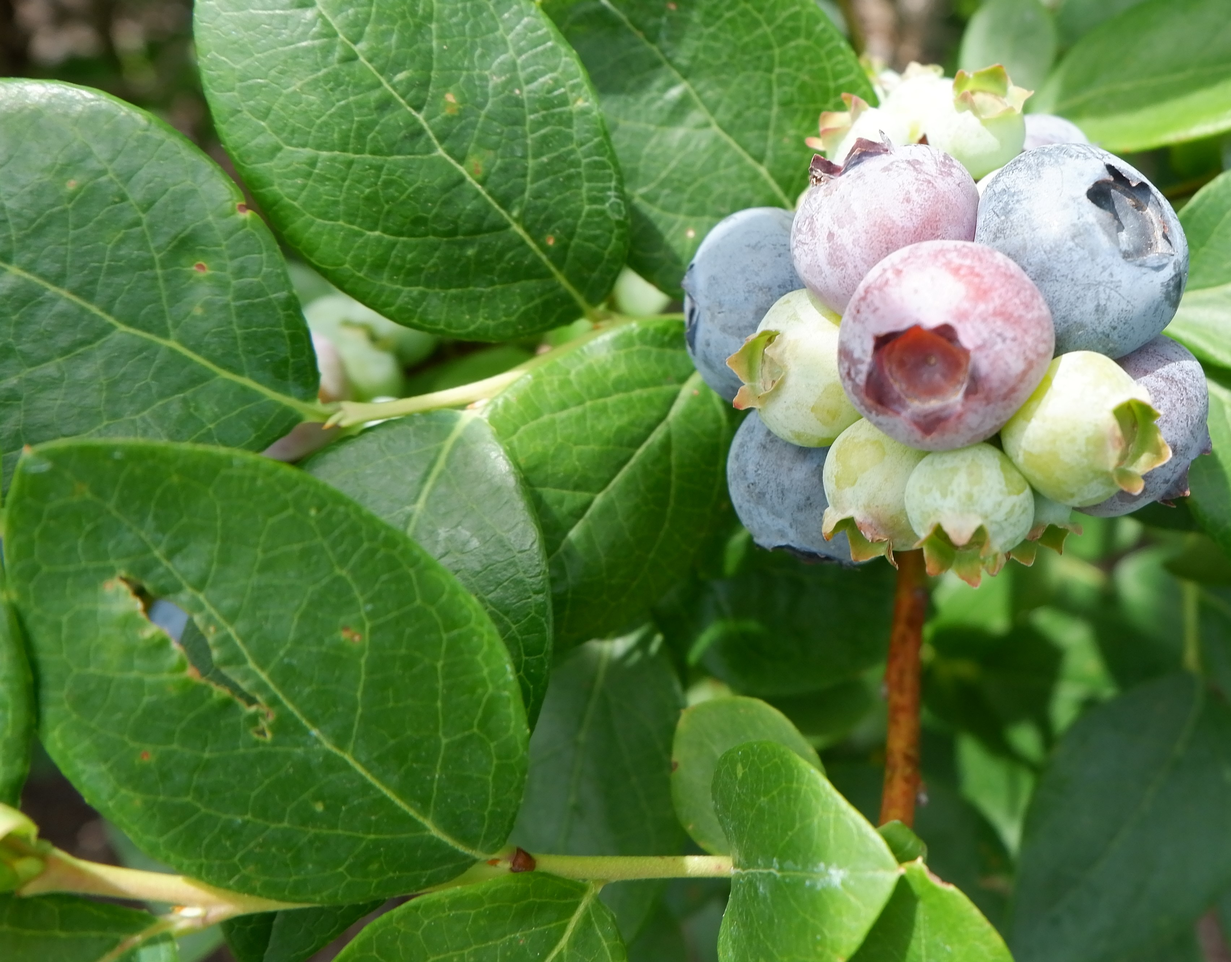Immature: (838, 239, 1053, 456), (792, 136, 977, 313), (998, 352, 1172, 508), (732, 289, 861, 446), (905, 444, 1032, 589), (824, 417, 928, 560), (935, 72, 1025, 174), (805, 92, 914, 169), (877, 61, 955, 149), (1011, 484, 1082, 566)
Mature: (973, 146, 1189, 358), (1073, 335, 1213, 517), (685, 210, 805, 402), (728, 411, 852, 563), (1023, 116, 1089, 150)
